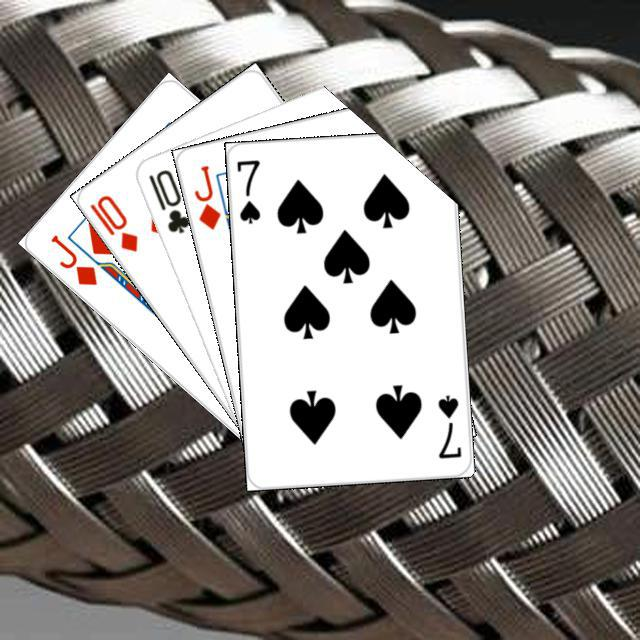10c: (143, 164, 192, 235)
10d: (84, 190, 140, 254)
7s: (231, 155, 262, 226), (433, 389, 463, 460)
Jd: (46, 229, 100, 288), (189, 160, 223, 232)
